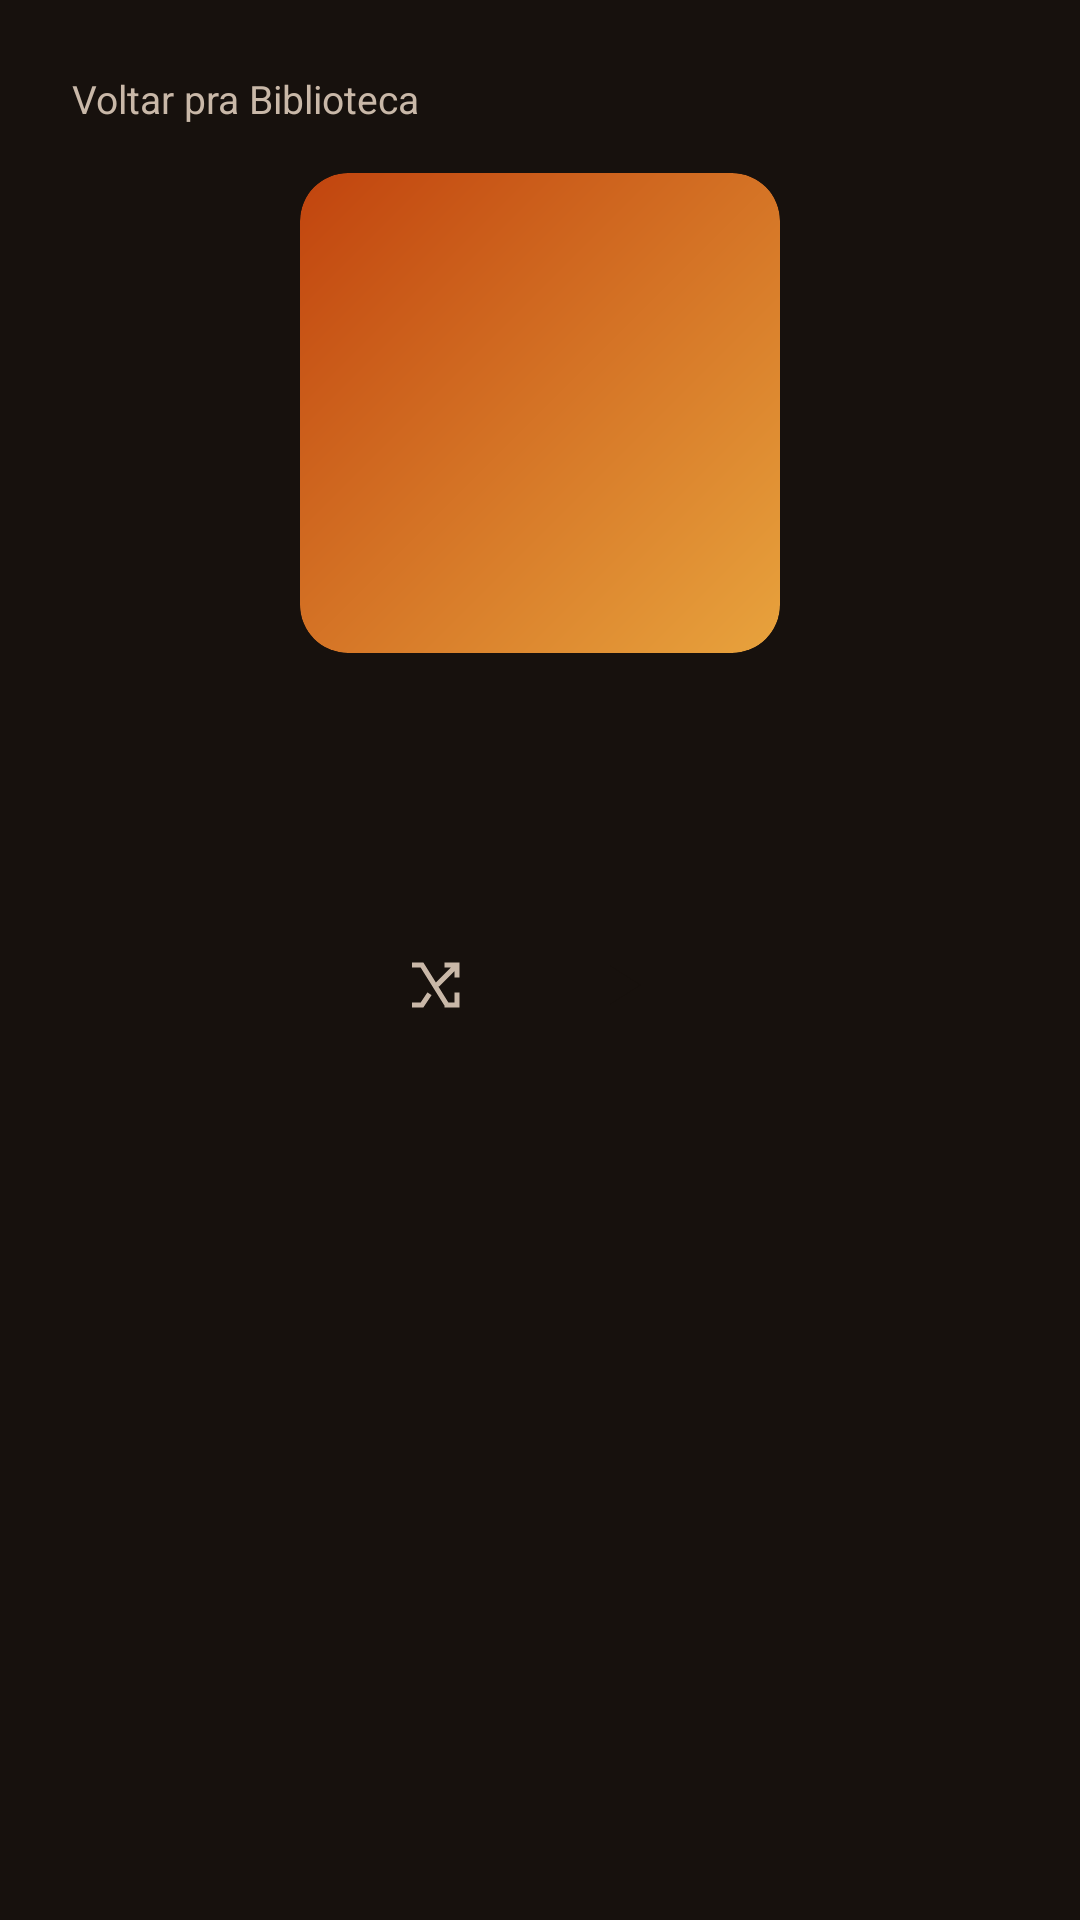

Screen size 1080×1920. Icon name, then its box in pixels as (x1, y1, x2, y2):
Tocar aleatório: (412, 962, 460, 1008)
